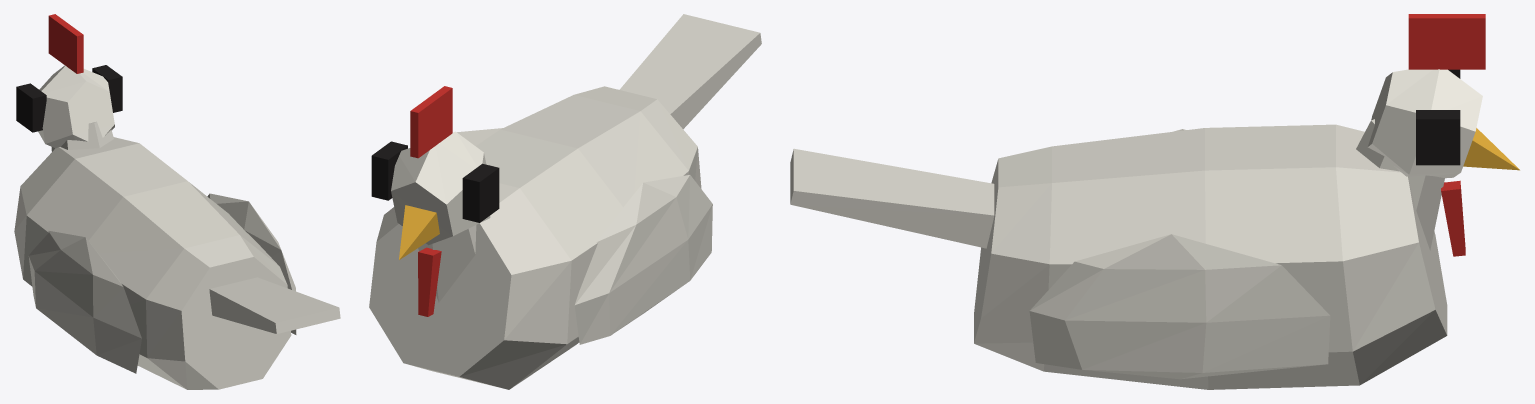
File: animal_chicken.obj
3 views of the same model, side by side, from view 1: azimuth 30°, elevation 25°; view 2: azimuth 150°, elevation 25°; view 3: azimuth 270°, elevation 25° (orthographic). The views are drawn at different scales.
Parts seen in each view (by area): view 1: animal_chicken; view 2: animal_chicken; view 3: animal_chicken.
Boxes of the visible parts, x1=… form: animal_chicken: x1=14, y1=14, x2=340, y2=389; animal_chicken: x1=369, y1=14, x2=761, y2=389; animal_chicken: x1=790, y1=14, x2=1519, y2=389.
Size of the model in its own units: 0.2115 by 0.2821 by 0.5297.
